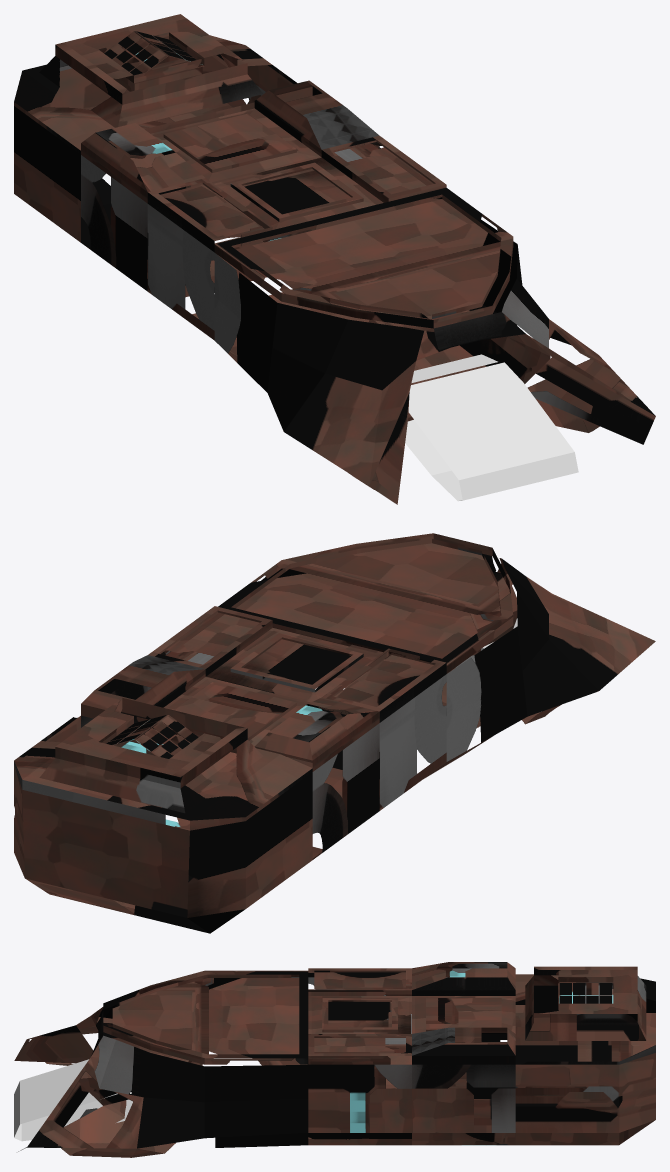
The model's file is THEBOATVar.fbx.
The picture shows the model from 3 angles, top to bottom: view 1: azimuth 30°, elevation 25°; view 2: azimuth 150°, elevation 25°; view 3: azimuth 270°, elevation 25°; orthographic projection. The views are drawn at different scales.
Visible parts, largest first — view 1: segmentTop, Plane; view 2: segmentTop; view 3: segmentTop, Plane.
Part boxes in pixels (<box>): segmentTop: <box>14,14,655,504</box>; Plane: <box>405,354,578,500</box>; segmentTop: <box>14,533,655,933</box>; segmentTop: <box>14,962,655,1157</box>; Plane: <box>14,1059,132,1141</box>.
Size of the model in its own units: 544 by 292 by 1239.
Materials: 1 (1 with a texture image).
